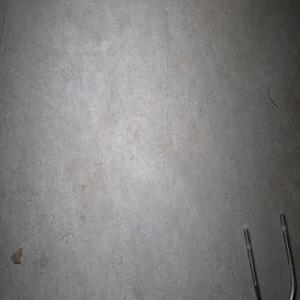ClampPart: (242, 211, 297, 300)
